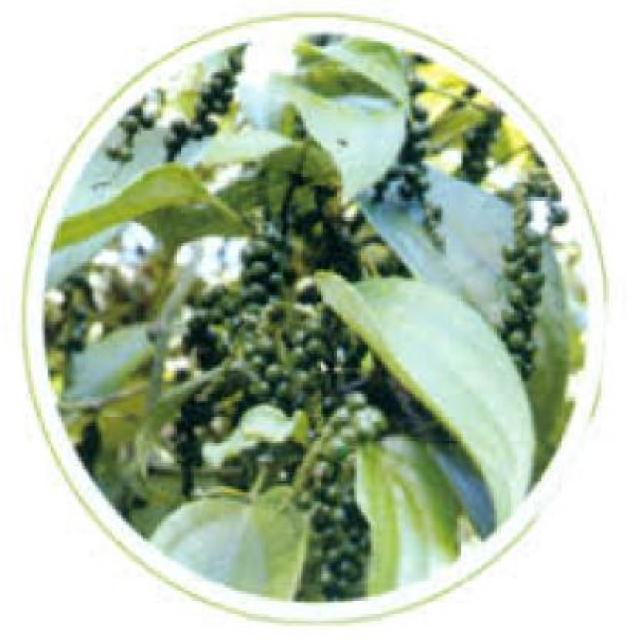UNRIPE: (296, 388, 379, 594), (235, 223, 323, 405), (171, 282, 231, 486), (174, 32, 248, 157), (397, 73, 445, 250), (497, 197, 541, 377), (459, 98, 503, 180), (106, 92, 149, 157), (57, 282, 85, 362)
